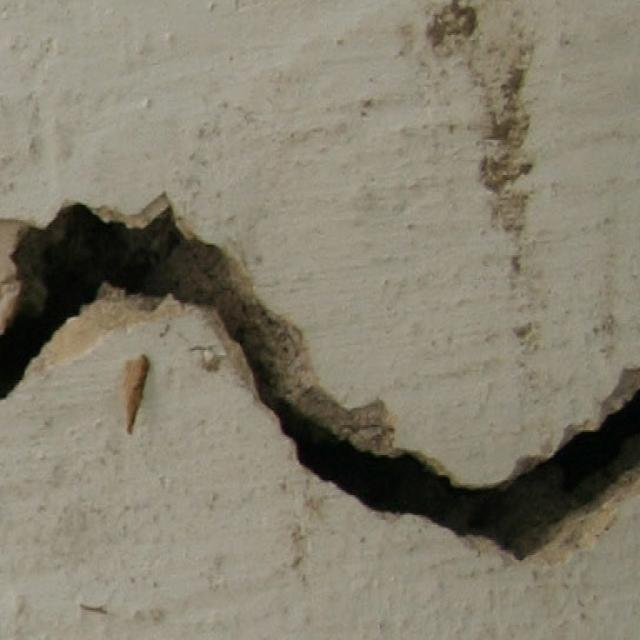spall: (2, 188, 636, 572)
